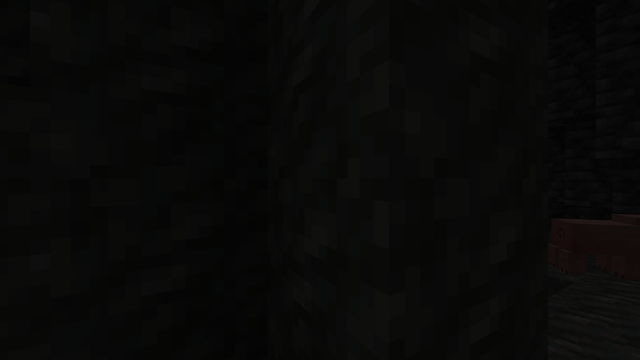cochons: (552, 215, 638, 285)
